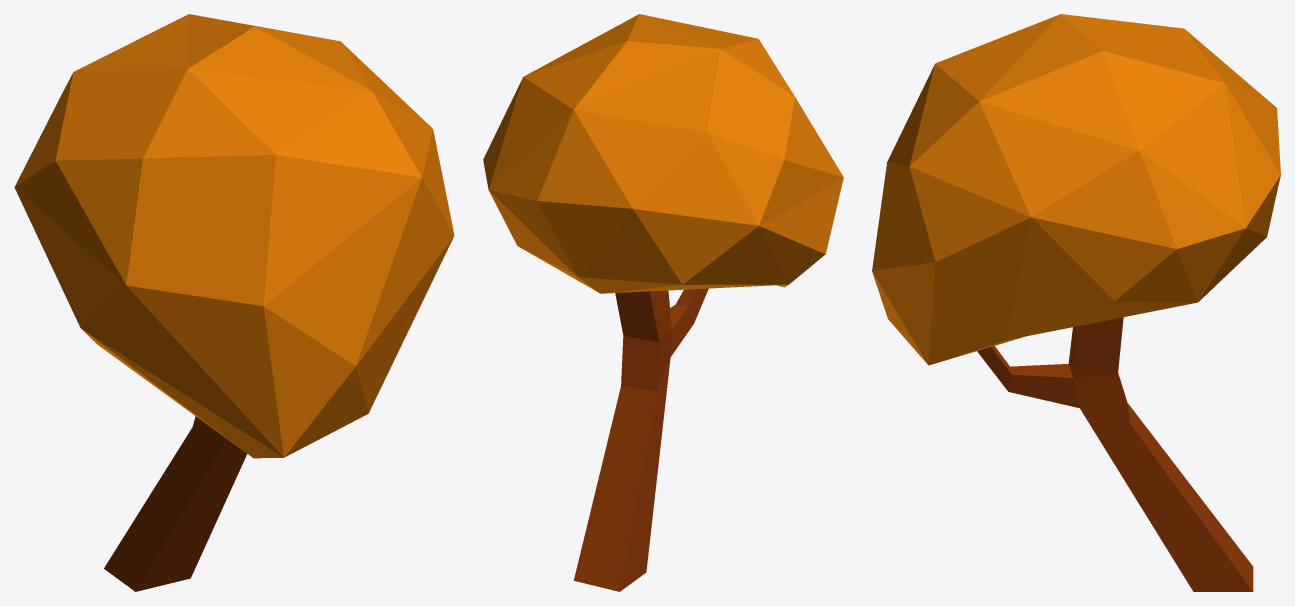
File: tree2.fbx
3 views of the same model, side by side, from view 1: azimuth 30°, elevation 25°; view 2: azimuth 150°, elevation 25°; view 3: azimuth 270°, elevation 25° (orthographic). The views are drawn at different scales.
Visible parts, largest first — view 1: Cube.002; view 2: Cube.002; view 3: Cube.002.
Boxes of the visible parts, box(x1,y1,x2,y2) form: Cube.002: box(14, 14, 454, 591); Cube.002: box(483, 14, 843, 591); Cube.002: box(872, 14, 1280, 591).
Bounding box in the file's own units: 419 × 674 × 456.
